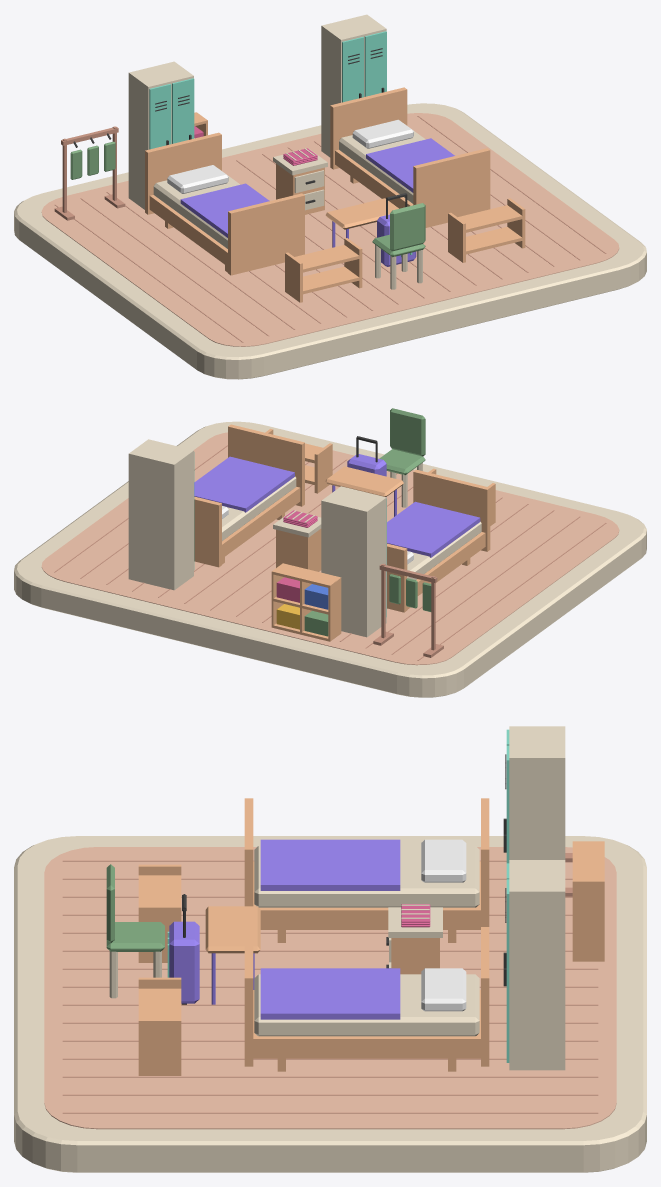
3 views of the same model, one above another, from view 1: azimuth 30°, elevation 25°; view 2: azimuth 150°, elevation 25°; view 3: azimuth 270°, elevation 25° (orthographic). The views are drawn at different scales.
Visible parts, largest first — view 1: COM-02 Floor Surface, COM-01 Rounded Base Direct, End board, End board.002, Case, Case.001, End board.003, End board.001, Blanket.001, Blanket, Backrest, Mattress (+19 smaller); view 2: COM-02 Floor Surface, COM-01 Rounded Base Direct, Case.001, Case, Blanket.001, Blanket, End board, End board.002, End board.003, Body, Backrest, Frame.001 (+15 smaller); view 3: COM-02 Floor Surface, COM-01 Rounded Base Direct, Case.001, Case, Blanket.001, Blanket, Mattress.001, Mattress, Frame.001, Frame, Cubbies divider.002, Side.003 (+21 smaller).
Boxes of the visible parts, x1=… form: COM-02 Floor Surface: x1=41, y1=113, x2=619, y2=346; COM-01 Rounded Base Direct: x1=14, y1=103, x2=646, y2=379; End board: x1=228, y1=193, x2=304, y2=275; End board.002: x1=413, y1=148, x2=490, y2=227; Case: x1=128, y1=61, x2=193, y2=209; Case.001: x1=321, y1=14, x2=386, y2=157; End board.003: x1=330, y1=87, x2=407, y2=169; End board.001: x1=145, y1=132, x2=221, y2=214; Blanket.001: x1=366, y1=138, x2=454, y2=192; Blanket: x1=180, y1=183, x2=269, y2=237; Backrest: x1=390, y1=203, x2=425, y2=251; Mattress: x1=153, y1=170, x2=239, y2=248; COM-02 Floor Surface: x1=41, y1=432, x2=619, y2=665; COM-01 Rounded Base Direct: x1=14, y1=421, x2=646, y2=697; Case.001: x1=128, y1=439, x2=193, y2=590; Case: x1=321, y1=486, x2=386, y2=637; Blanket.001: x1=194, y1=456, x2=294, y2=512; Blanket: x1=387, y1=501, x2=480, y2=557; End board: x1=413, y1=469, x2=490, y2=551; End board.002: x1=228, y1=424, x2=304, y2=506; End board.003: x1=194, y1=496, x2=221, y2=567; Body: x1=276, y1=529, x2=321, y2=571; Backrest: x1=390, y1=408, x2=425, y2=456; Frame.001: x1=222, y1=487, x2=300, y2=558; COM-02 Floor Surface: x1=44, y1=847, x2=616, y2=1129; COM-01 Rounded Base Direct: x1=14, y1=836, x2=646, y2=1172; Case.001: x1=509, y1=860, x2=565, y2=1070; Case: x1=509, y1=726, x2=565, y2=859; Blanket.001: x1=260, y1=968, x2=400, y2=1019; Blanket: x1=260, y1=839, x2=400, y2=890; Mattress.001: x1=254, y1=974, x2=479, y2=1036; Mattress: x1=254, y1=845, x2=479, y2=907; Frame.001: x1=253, y1=990, x2=480, y2=1058; Frame: x1=253, y1=861, x2=480, y2=929; Cubbies divider.002: x1=572, y1=882, x2=604, y2=961; Side.003: x1=138, y1=1019, x2=181, y2=1075.
Size of the model in its own units: 6 by 1.92 by 5.2.
1 material, 1 textured.
